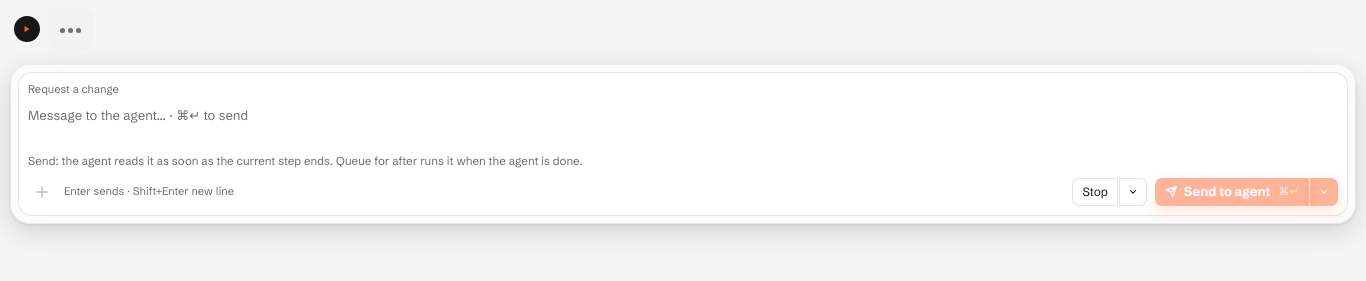
Test: composer while the agent works: live input on › shows the limit error tooMany translated and keeps the words
Check: the button named "More ways to send" is shown, box [1310,178,1338,206]
Type "words" into the text box labelled "Request a change" at (683, 126), box [28,106,1338,145]
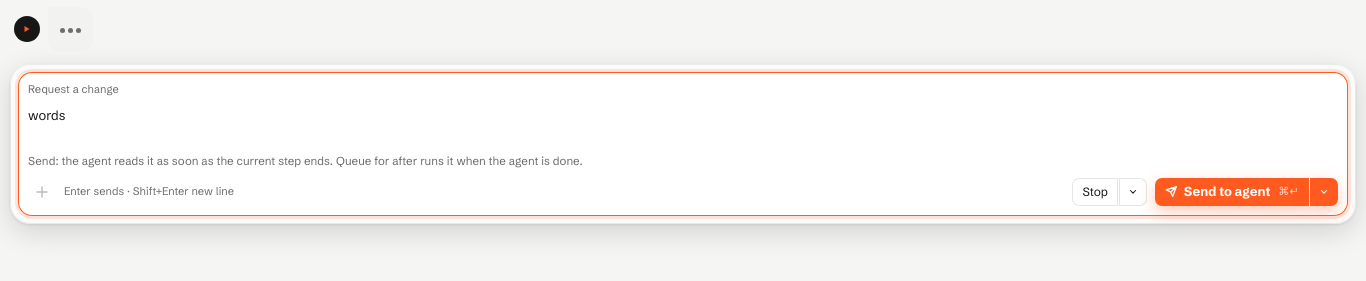
Press Enter
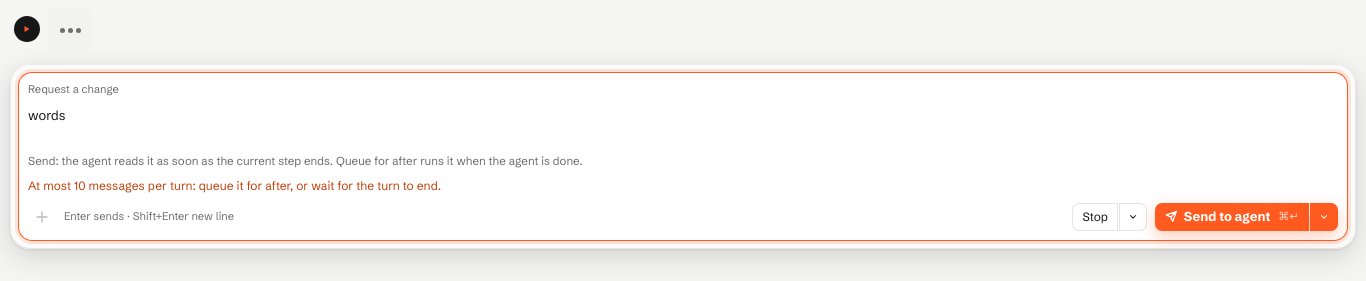
Check: the message "At most 10 messages per turn: queue it for after, or wait for the turn to end." is shown, box [28,178,441,193]
